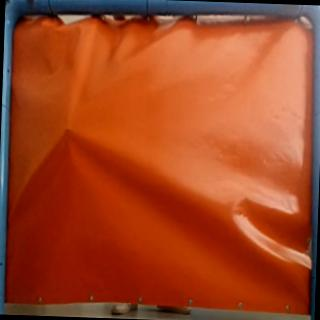Hit-hRxx: (59, 122, 76, 134)
